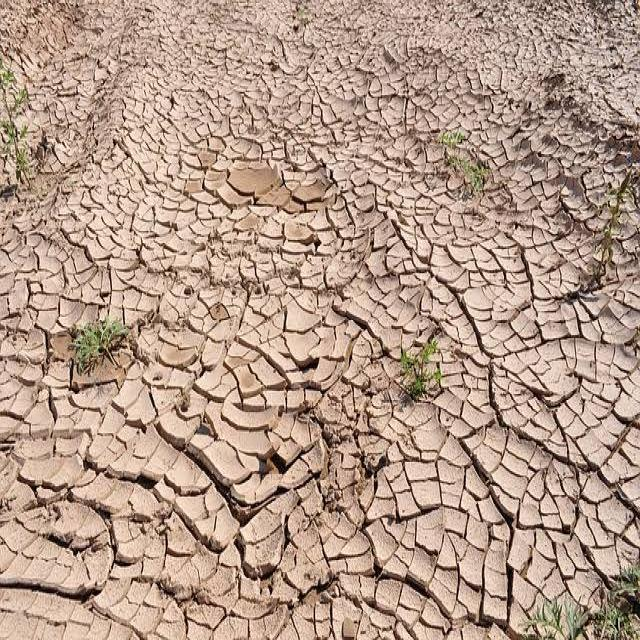suelo_seco: (216, 96, 380, 578)
